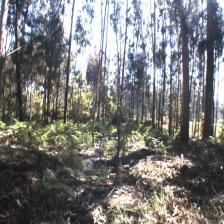trunktrack_idkeyframe: (202, 41, 214, 138), (181, 27, 189, 144), (63, 30, 72, 124), (16, 64, 24, 121), (92, 91, 98, 146), (115, 116, 119, 182)
